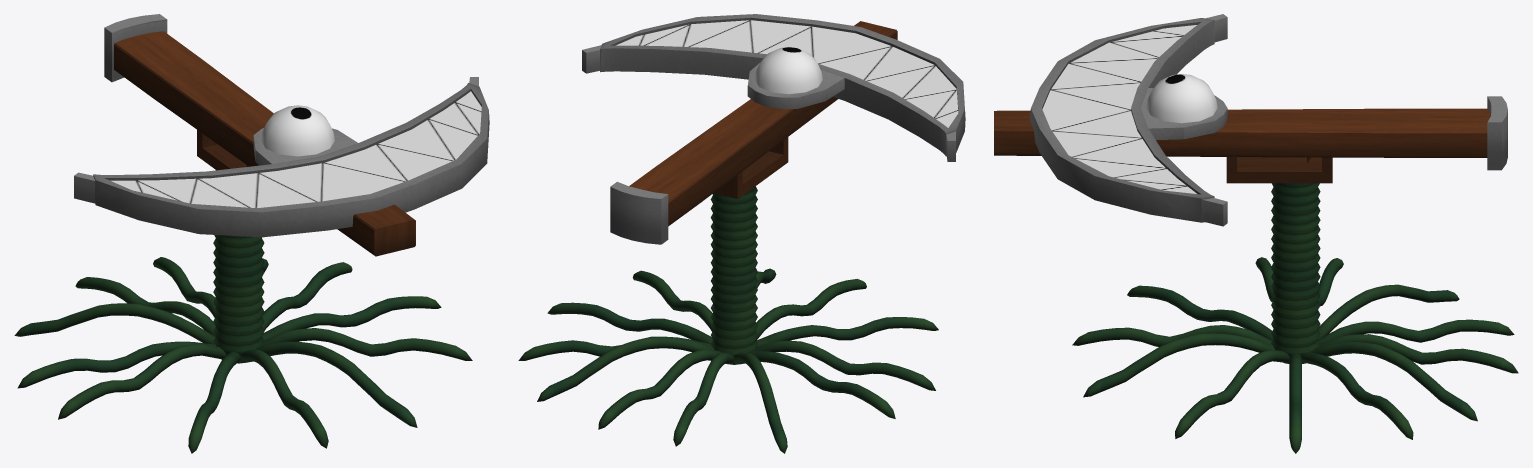
File: Turret_crossdevil.fbx
The picture shows the model from 3 angles, left to right: view 1: azimuth 30°, elevation 25°; view 2: azimuth 150°, elevation 25°; view 3: azimuth 270°, elevation 25°; orthographic projection. The views are drawn at different scales.
Parts seen in each view (by area): view 1: crossdevil_m, crossdevil_base; view 2: crossdevil_m, crossdevil_base; view 3: crossdevil_m, crossdevil_base.
Part boxes in pixels (bbox=[...]): crossdevil_m: bbox=[74, 14, 489, 256]; crossdevil_base: bbox=[14, 235, 472, 453]; crossdevil_m: bbox=[582, 14, 965, 244]; crossdevil_base: bbox=[518, 186, 938, 453]; crossdevil_m: bbox=[994, 14, 1507, 226]; crossdevil_base: bbox=[1072, 183, 1518, 453].
Size of the model in its own units: 71.16 by 50.07 by 82.69.
